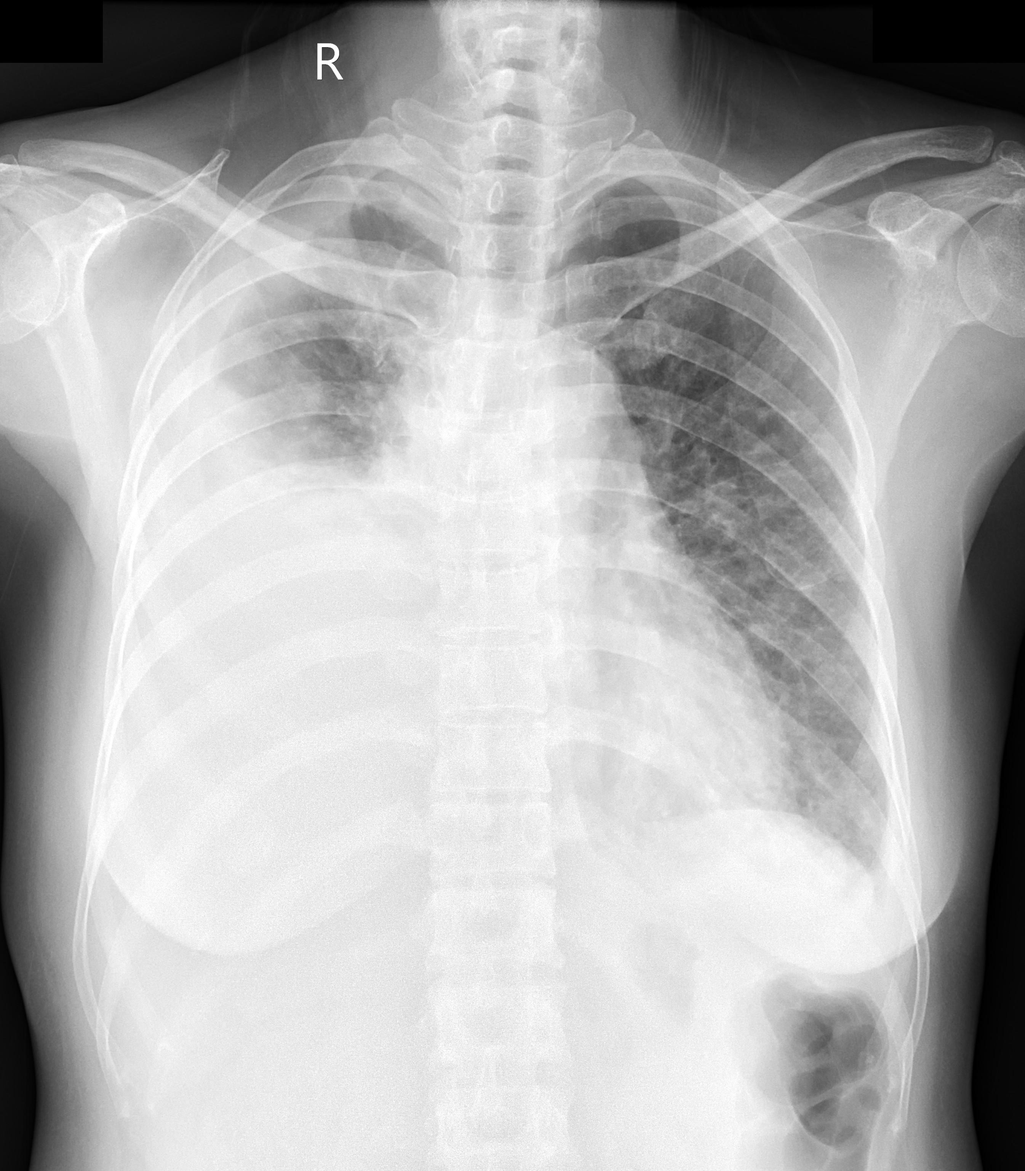Pleural thickening: (155, 200, 366, 323)
